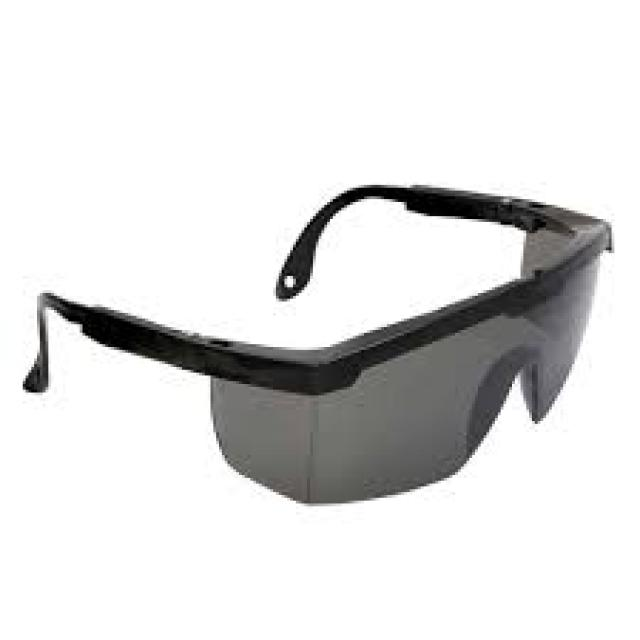oculos-epi: (26, 182, 612, 510)
